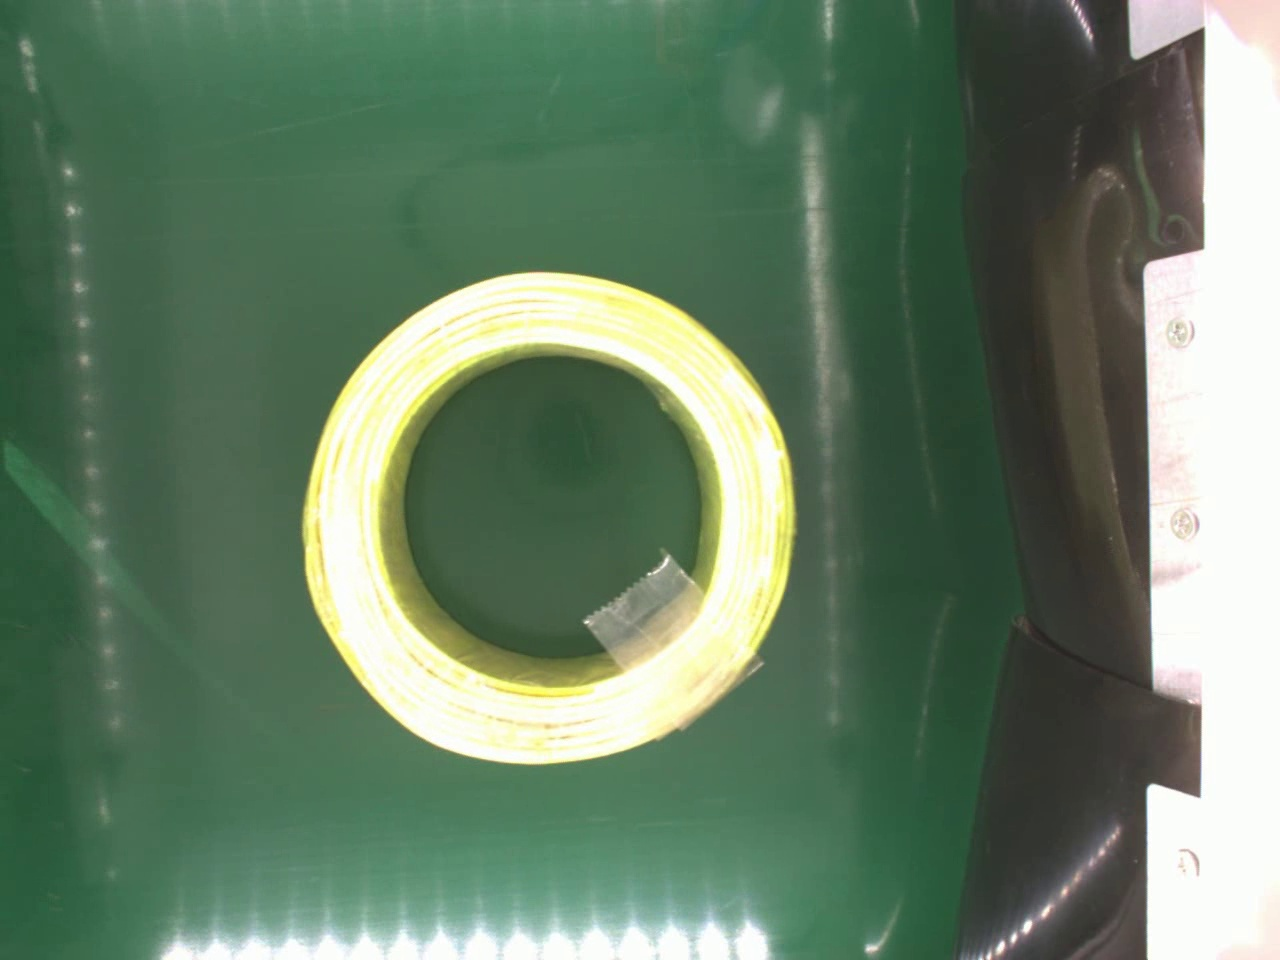yellow: (299, 268, 795, 763)
